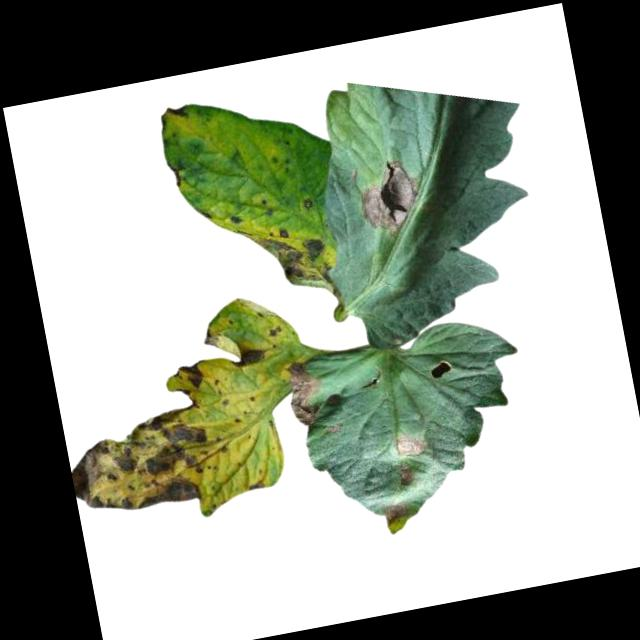Early_blight: (63, 401, 217, 520), (251, 216, 336, 297), (352, 154, 425, 243), (281, 357, 326, 430), (227, 341, 268, 369), (393, 430, 427, 461), (176, 360, 208, 390), (381, 497, 410, 526), (397, 465, 416, 488), (263, 320, 286, 338), (299, 191, 317, 213), (166, 102, 188, 118), (225, 208, 244, 226), (245, 478, 266, 491)
